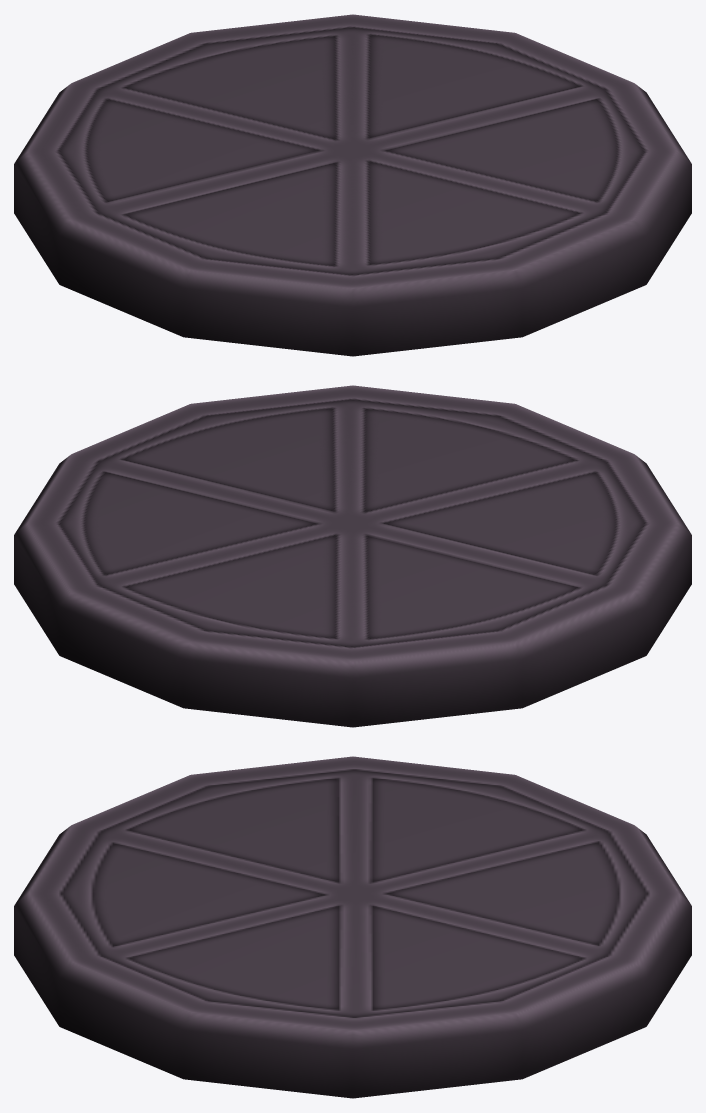
Rendered from mesh_manholeCover.fbx.
3 views of the same model, one above another, from view 1: azimuth 30°, elevation 25°; view 2: azimuth 150°, elevation 25°; view 3: azimuth 270°, elevation 25° (orthographic).
Parts seen in each view (by area): view 1: mesh_manholeCover; view 2: mesh_manholeCover; view 3: mesh_manholeCover.
Part boxes in pixels (x1,y1,x2,y2): mesh_manholeCover: (14, 14, 691, 356); mesh_manholeCover: (14, 385, 691, 727); mesh_manholeCover: (14, 756, 691, 1098).
Bounding box in the file's own units: 100 × 10 × 100.
